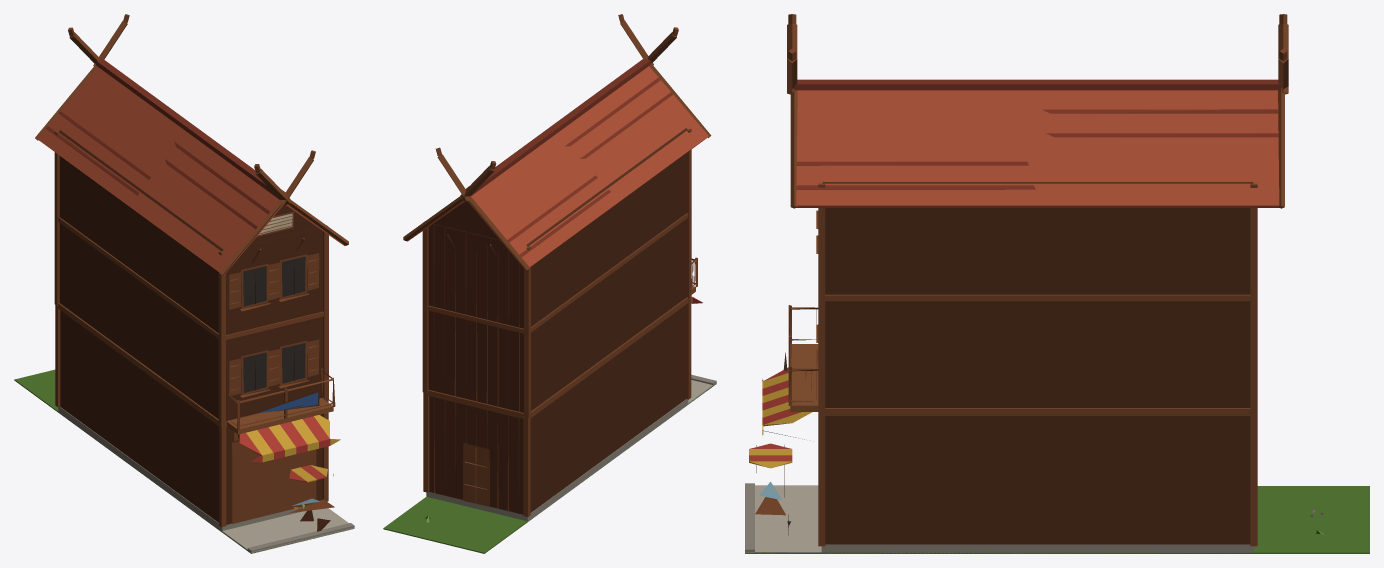
File: bay2_mid.glb
3 renders of one model, left to right at view 1: azimuth 30°, elevation 25°; view 2: azimuth 150°, elevation 25°; view 3: azimuth 270°, elevation 25°, orthographic. The views are drawn at different scales.
Parts seen in each view (by area): view 1: body, windows; view 2: body; view 3: body.
Part boxes in pixels (<box>): body: <box>14,14,354,553</box>; windows: <box>243,256,305,392</box>; body: <box>383,14,716,553</box>; body: <box>745,14,1369,553</box>.
Bounding box in the file's own units: 5.02 × 13.98 × 15.9.
